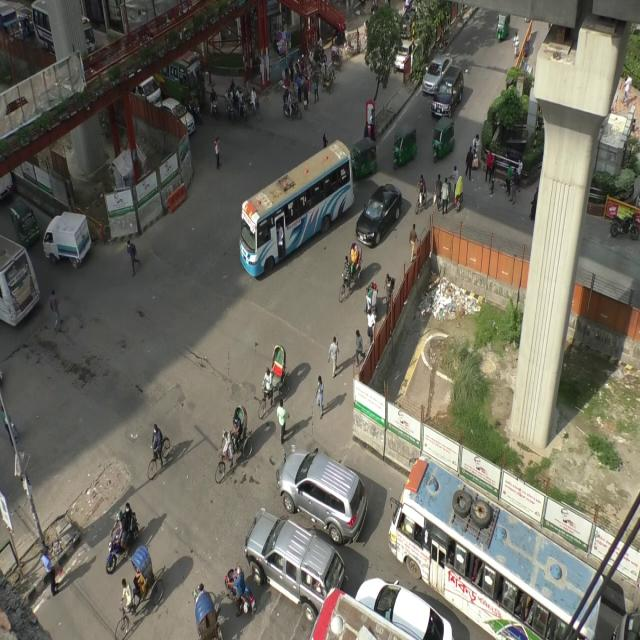cng: (392, 117, 422, 170), (351, 131, 378, 189), (430, 114, 456, 167), (492, 12, 512, 44)
rikshaw: (114, 537, 157, 640), (214, 403, 250, 486), (255, 340, 289, 423), (190, 577, 224, 640), (336, 241, 365, 303), (280, 63, 299, 96), (320, 63, 339, 93), (330, 45, 345, 66)
